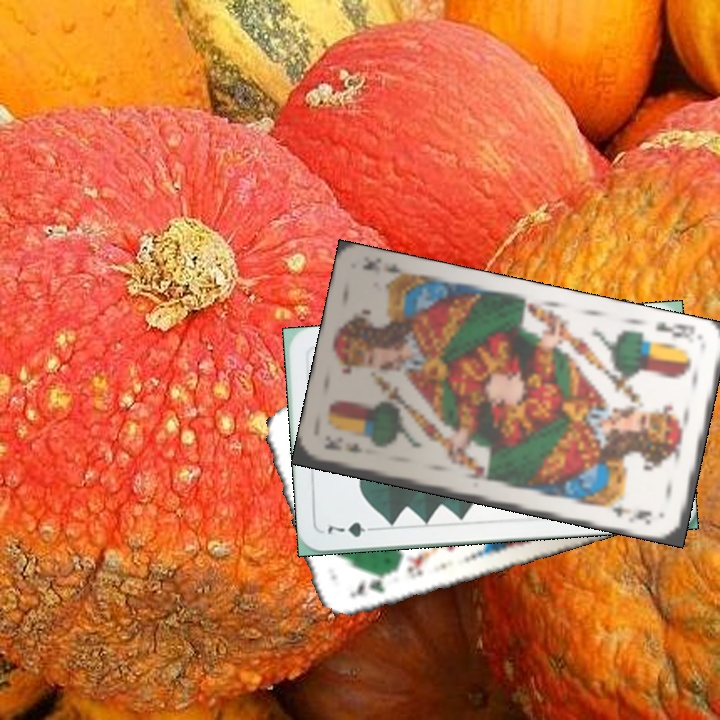EK: (652, 318, 697, 341), (320, 435, 364, 456)
G7: (323, 517, 381, 540)
GK: (344, 568, 396, 600)
